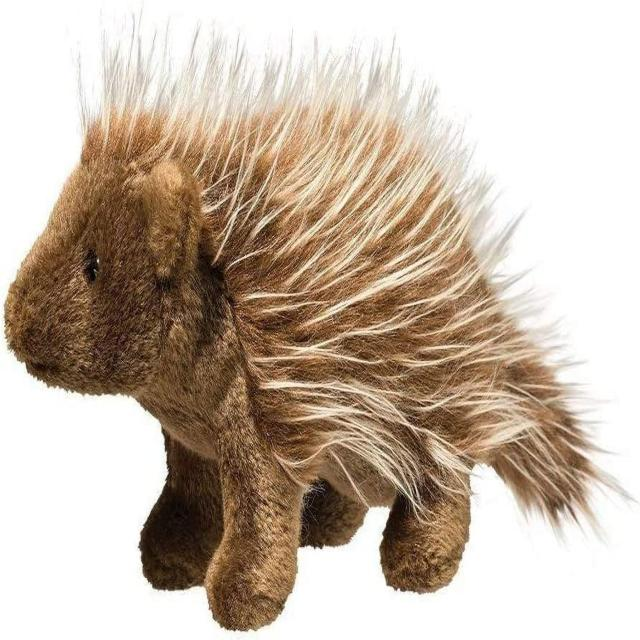Porcupine: (2, 46, 575, 631)
